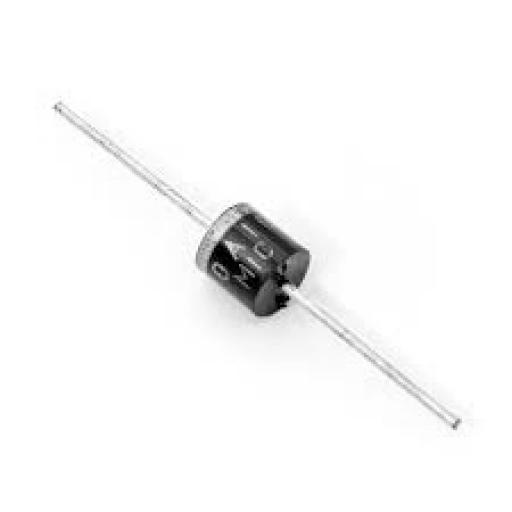DIODE: (50, 96, 464, 430)
